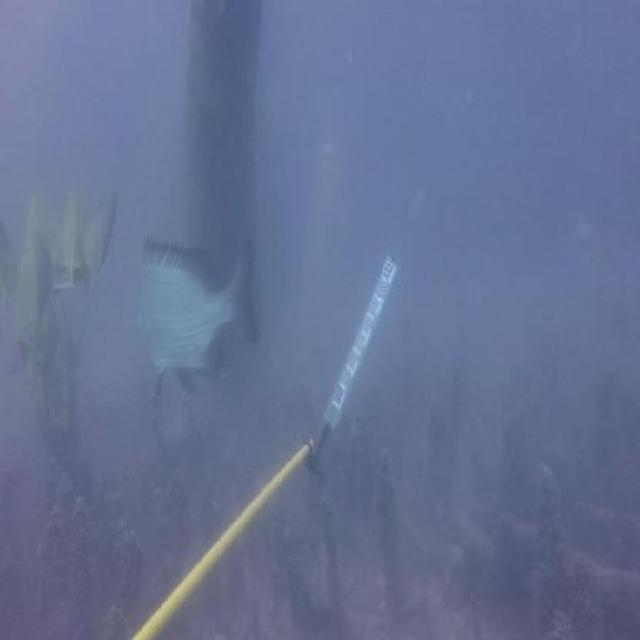acanthopagrus_palmaris: (122, 220, 270, 406)
